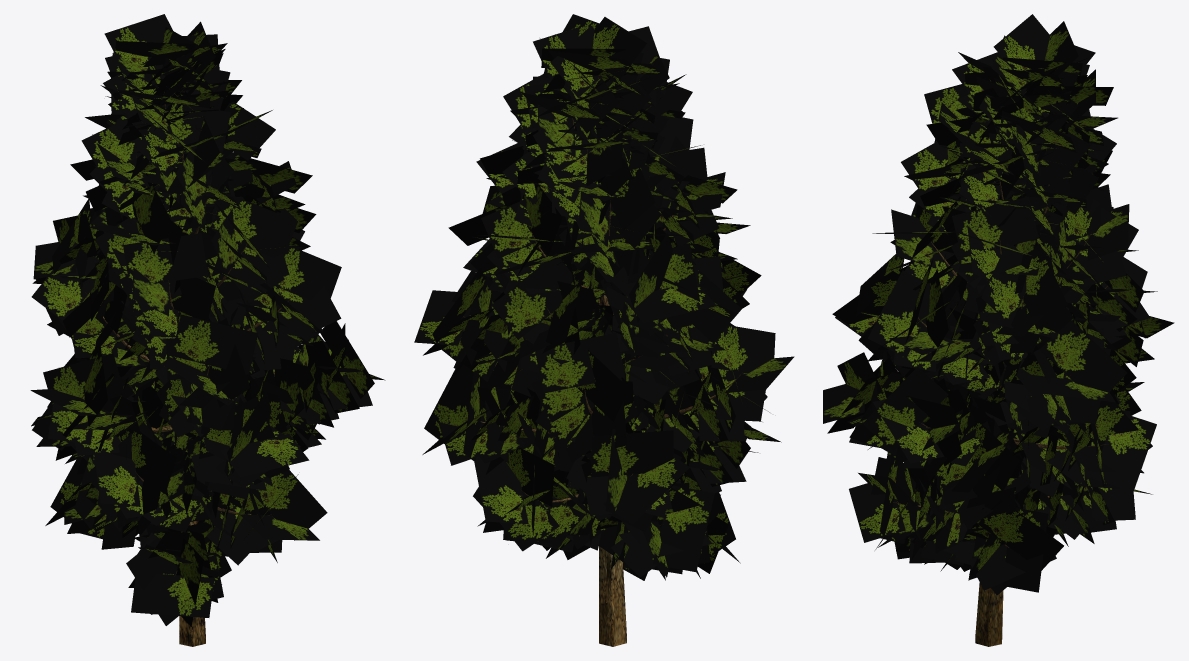
File: TRY 2.obj
The picture shows the model from 3 angles, left to right: view 1: azimuth 30°, elevation 25°; view 2: azimuth 150°, elevation 25°; view 3: azimuth 270°, elevation 25°; orthographic projection. The views are drawn at different scales.
Visible parts, largest first — view 1: leaves, tree; view 2: leaves, tree; view 3: leaves, tree.
Part boxes in pixels (x1,y1,x2,y2): leaves: (30, 14, 385, 626); tree: (83, 92, 294, 646); leaves: (414, 14, 794, 580); tree: (463, 77, 742, 646); leaves: (823, 14, 1174, 595); tree: (893, 157, 1110, 646).
Bounding box in the file's own units: 28.46 × 51.87 × 27.55.
Materials: 2 (2 with a texture image).
